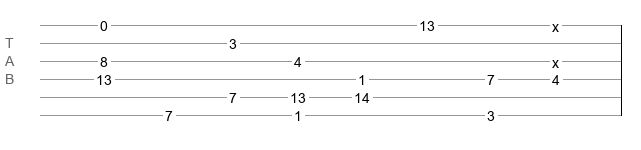0: (100, 18, 108, 28)
1: (294, 108, 302, 118), (358, 72, 366, 82)
13: (96, 72, 112, 82), (290, 90, 306, 100), (419, 18, 435, 28)
14: (354, 90, 370, 100)
3: (229, 36, 237, 46), (487, 108, 495, 118)
4: (294, 54, 302, 64), (552, 72, 560, 82)
7: (165, 108, 173, 118), (229, 90, 237, 100), (487, 72, 495, 82)
8: (100, 54, 108, 64)
x: (552, 19, 559, 27), (552, 55, 559, 63)
